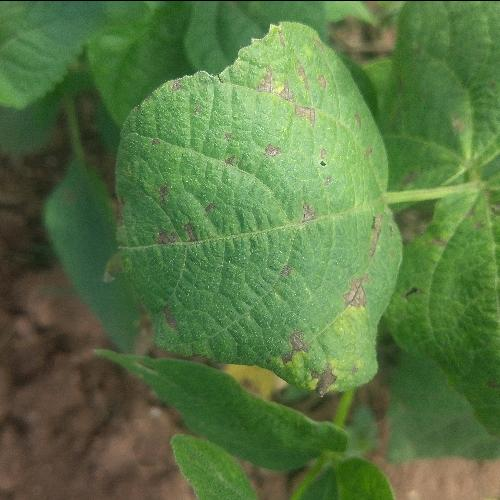hawar: (246, 208, 395, 392), (237, 39, 335, 173), (136, 158, 229, 266)
